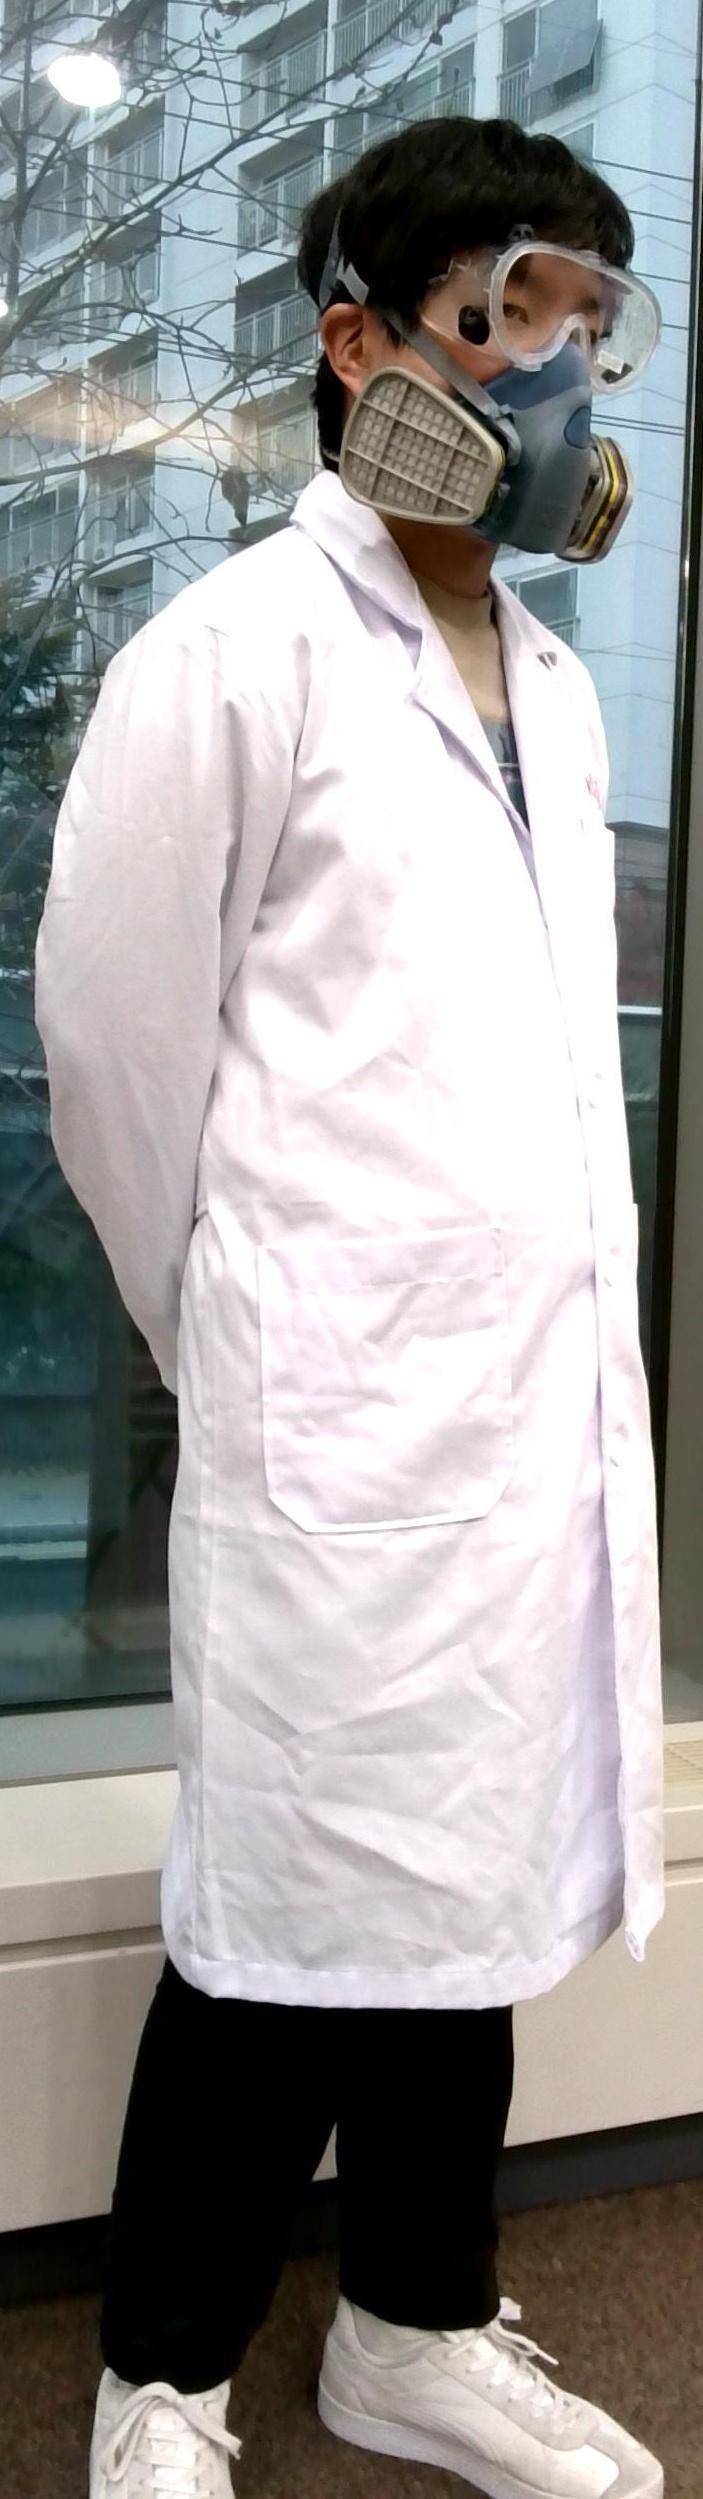lab_coat: (21, 571, 697, 1991)
